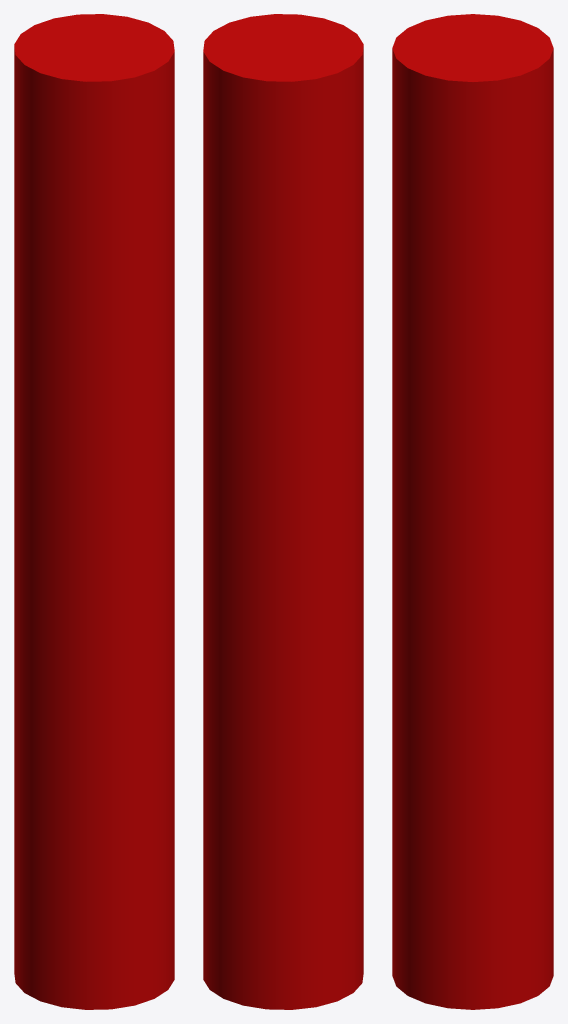
Rendered from Tree_Placeholder.dae.
The picture shows the model from 3 angles, left to right: view 1: azimuth 30°, elevation 25°; view 2: azimuth 150°, elevation 25°; view 3: azimuth 270°, elevation 25°; orthographic projection.
Parts seen in each view (by area): view 1: pCylinder1; view 2: pCylinder1; view 3: pCylinder1.
Boxes of the visible parts, left/top/right/bottom form: pCylinder1: left=14, top=14, right=174, bottom=1009; pCylinder1: left=203, top=14, right=363, bottom=1009; pCylinder1: left=392, top=14, right=553, bottom=1009.
Bounding box in the file's own units: 4.17 × 26.45 × 4.17.
